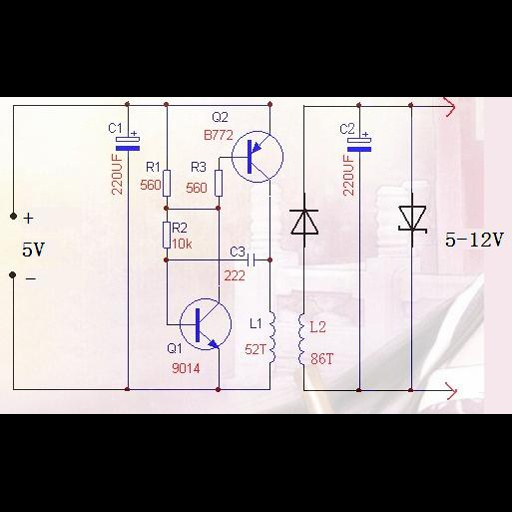capacitor: (244, 250, 260, 268)
firstresistance: (212, 168, 227, 200), (161, 166, 176, 197), (159, 219, 172, 251)
inductor: (267, 308, 282, 368), (294, 307, 307, 369)
npn: (190, 303, 220, 349)
pnp: (243, 135, 272, 179)
seconddiode: (287, 204, 324, 240)
